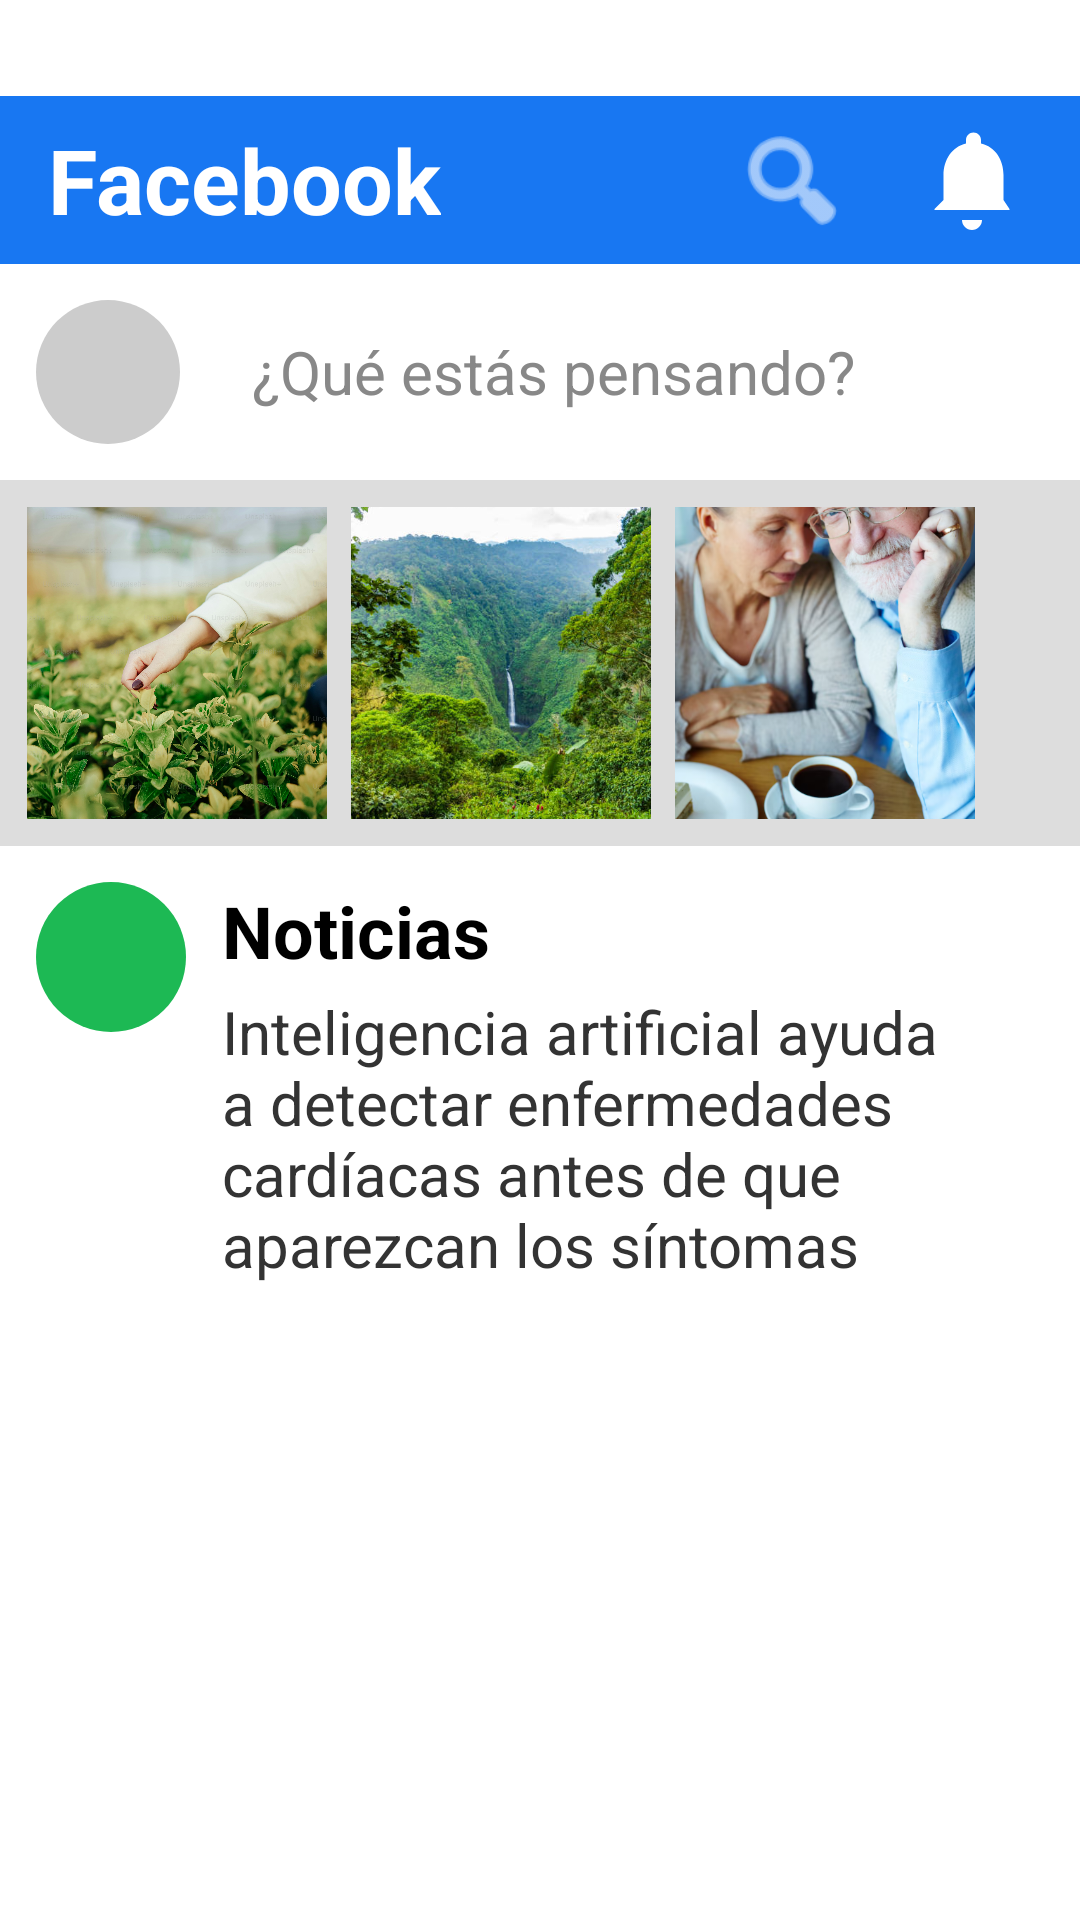

Named icons in this screenshot (1080px x 1920px) and their centers, (x=x, y=y):
Notificaciones: (x=972, y=181)
search: (x=792, y=180)
story: (x=177, y=663), (x=501, y=663), (x=825, y=663)
